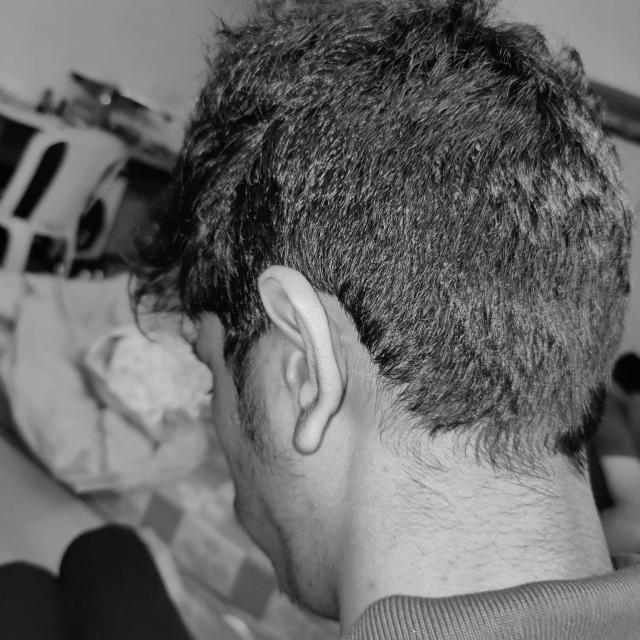ear: (259, 266, 345, 453)
